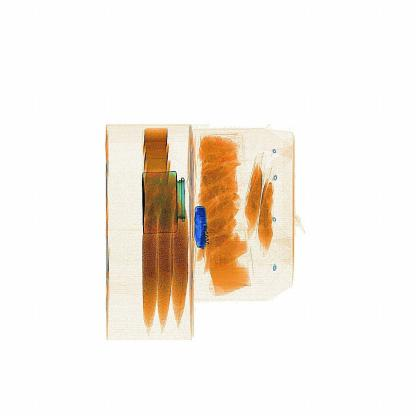scissors: (190, 200, 215, 249)
